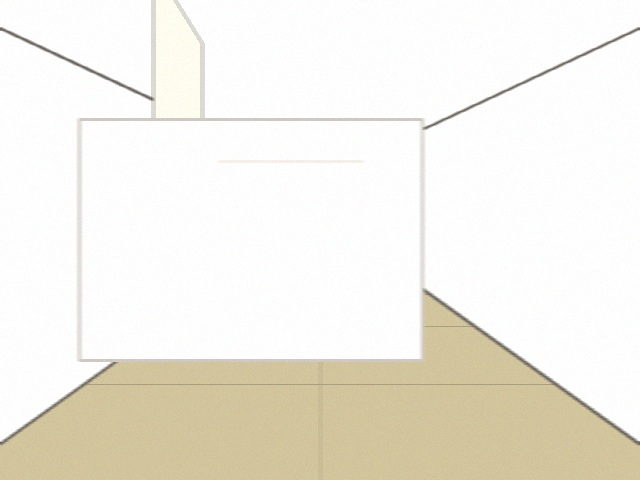directional_sign: (120, 148, 207, 198)
hospital_bed: (79, 119, 422, 360)
